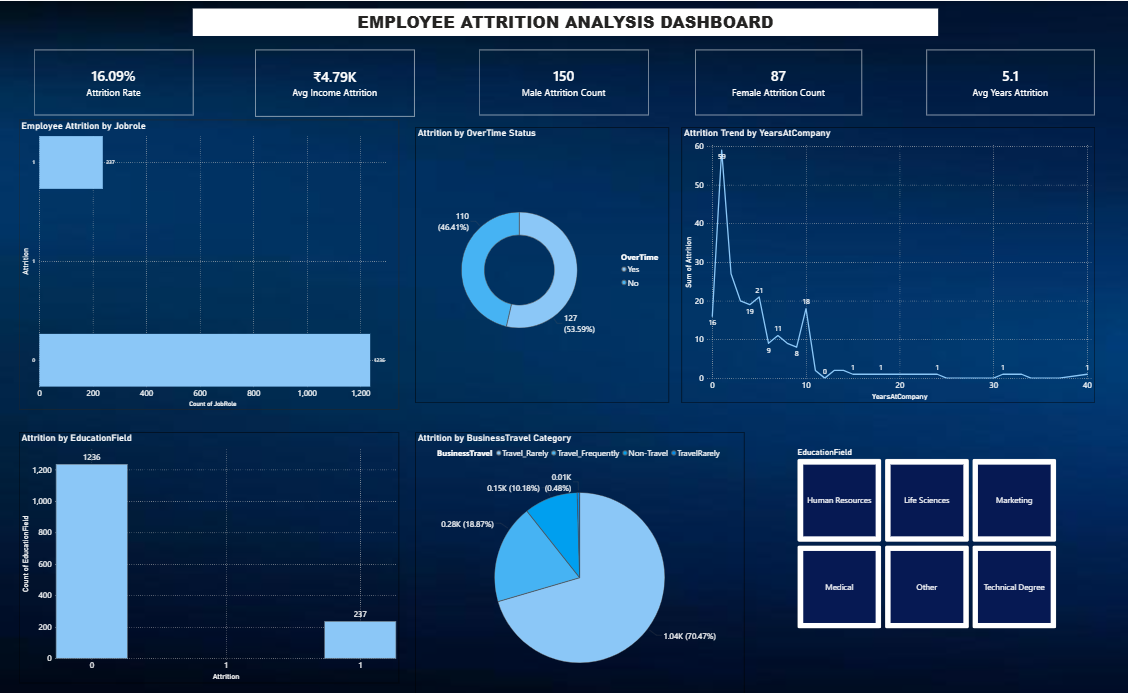

Layout of this report page (visuals, bound fields, positions):
{"tool":"powerbi","page":{"name":"Page 2","canvas":[2600,1600],"ordinal":1},"visuals":[{"type":"cardVisual","fields":{"Data":["cleaned_hr_data.Attrition Rate"]},"box":[80,113.3,366.7,150],"z":0},{"type":"cardVisual","fields":{"Data":["cleaned_hr_data.Avg Income Attrition"]},"box":[590,113.3,366.7,153.3],"z":1000},{"type":"cardVisual","fields":{"Data":["cleaned_hr_data.Avg Years Attrition"]},"box":[2133.3,113.3,386.7,150],"z":2000},{"type":"cardVisual","fields":{"Data":["cleaned_hr_data.Male Attrition"]},"box":[1103.3,113.3,390,150],"z":3000},{"type":"cardVisual","fields":{"Data":["cleaned_hr_data.Female Attrition"]},"box":[1600,113.3,383.3,150],"z":4000},{"type":"barChart","title":"Employee Attrition by Jobrole","fields":{"Y":["CountNonNull(cleaned_hr_data.JobRole)"],"Category":["cleaned_hr_data.Attrition"]},"box":[46.7,273.3,910,666.7],"z":5000},{"type":"donutChart","title":"Attrition by OverTime Status","fields":{"Category":["cleaned_hr_data.OverTime"],"Y":["Sum(cleaned_hr_data.Attrition)"]},"box":[1016.7,290,583.3,633.3],"z":6000},{"type":"clusteredColumnChart","title":"Attrition by EducationField","fields":{"Category":["cleaned_hr_data.Attrition"],"Y":["CountNonNull(cleaned_hr_data.EducationField)"]},"box":[46.7,990,836.7,576.7],"z":7000},{"type":"pieChart","title":"Attrition by BusinessTravel Category","fields":{"Category":["cleaned_hr_data.BusinessTravel"],"Y":["CountNonNull(cleaned_hr_data.Attrition)"]},"box":[956.7,940,756.7,593.3],"z":8000},{"type":"lineChart","title":"Attrition Trend by YearsAtCompany","fields":{"Category":["cleaned_hr_data.YearsAtCompany"],"Y":["Sum(cleaned_hr_data.Attrition)"]},"box":[1650,306.7,923.3,633.3],"z":9000},{"type":"listSlicer","fields":{"Values":["cleaned_hr_data.EducationField"]},"box":[1793.3,990,493.3,340],"z":10000},{"type":"textbox","box":[446.7,16.7,1713.3,63.3],"z":11000}]}

Visuals, with their boxes in screenshot pixels (x1, y1, x2, y2), scaled from the page's 2600x1600 canvas onto the 1128x693 screenshot:
cardVisual - cleaned_hr_data.Attrition Rate: [left=35, top=49, right=194, bottom=114]
cardVisual - cleaned_hr_data.Avg Income Attrition: [left=256, top=49, right=415, bottom=115]
cardVisual - cleaned_hr_data.Avg Years Attrition: [left=926, top=49, right=1093, bottom=114]
cardVisual - cleaned_hr_data.Male Attrition: [left=479, top=49, right=648, bottom=114]
cardVisual - cleaned_hr_data.Female Attrition: [left=694, top=49, right=860, bottom=114]
"Employee Attrition by Jobrole" barChart: [left=20, top=118, right=415, bottom=407]
"Attrition by OverTime Status" donutChart: [left=441, top=126, right=694, bottom=400]
"Attrition by EducationField" clusteredColumnChart: [left=20, top=429, right=383, bottom=679]
"Attrition by BusinessTravel Category" pieChart: [left=415, top=407, right=743, bottom=664]
"Attrition Trend by YearsAtCompany" lineChart: [left=716, top=133, right=1116, bottom=407]
listSlicer - cleaned_hr_data.EducationField: [left=778, top=429, right=992, bottom=576]
textbox: [left=194, top=7, right=937, bottom=35]
